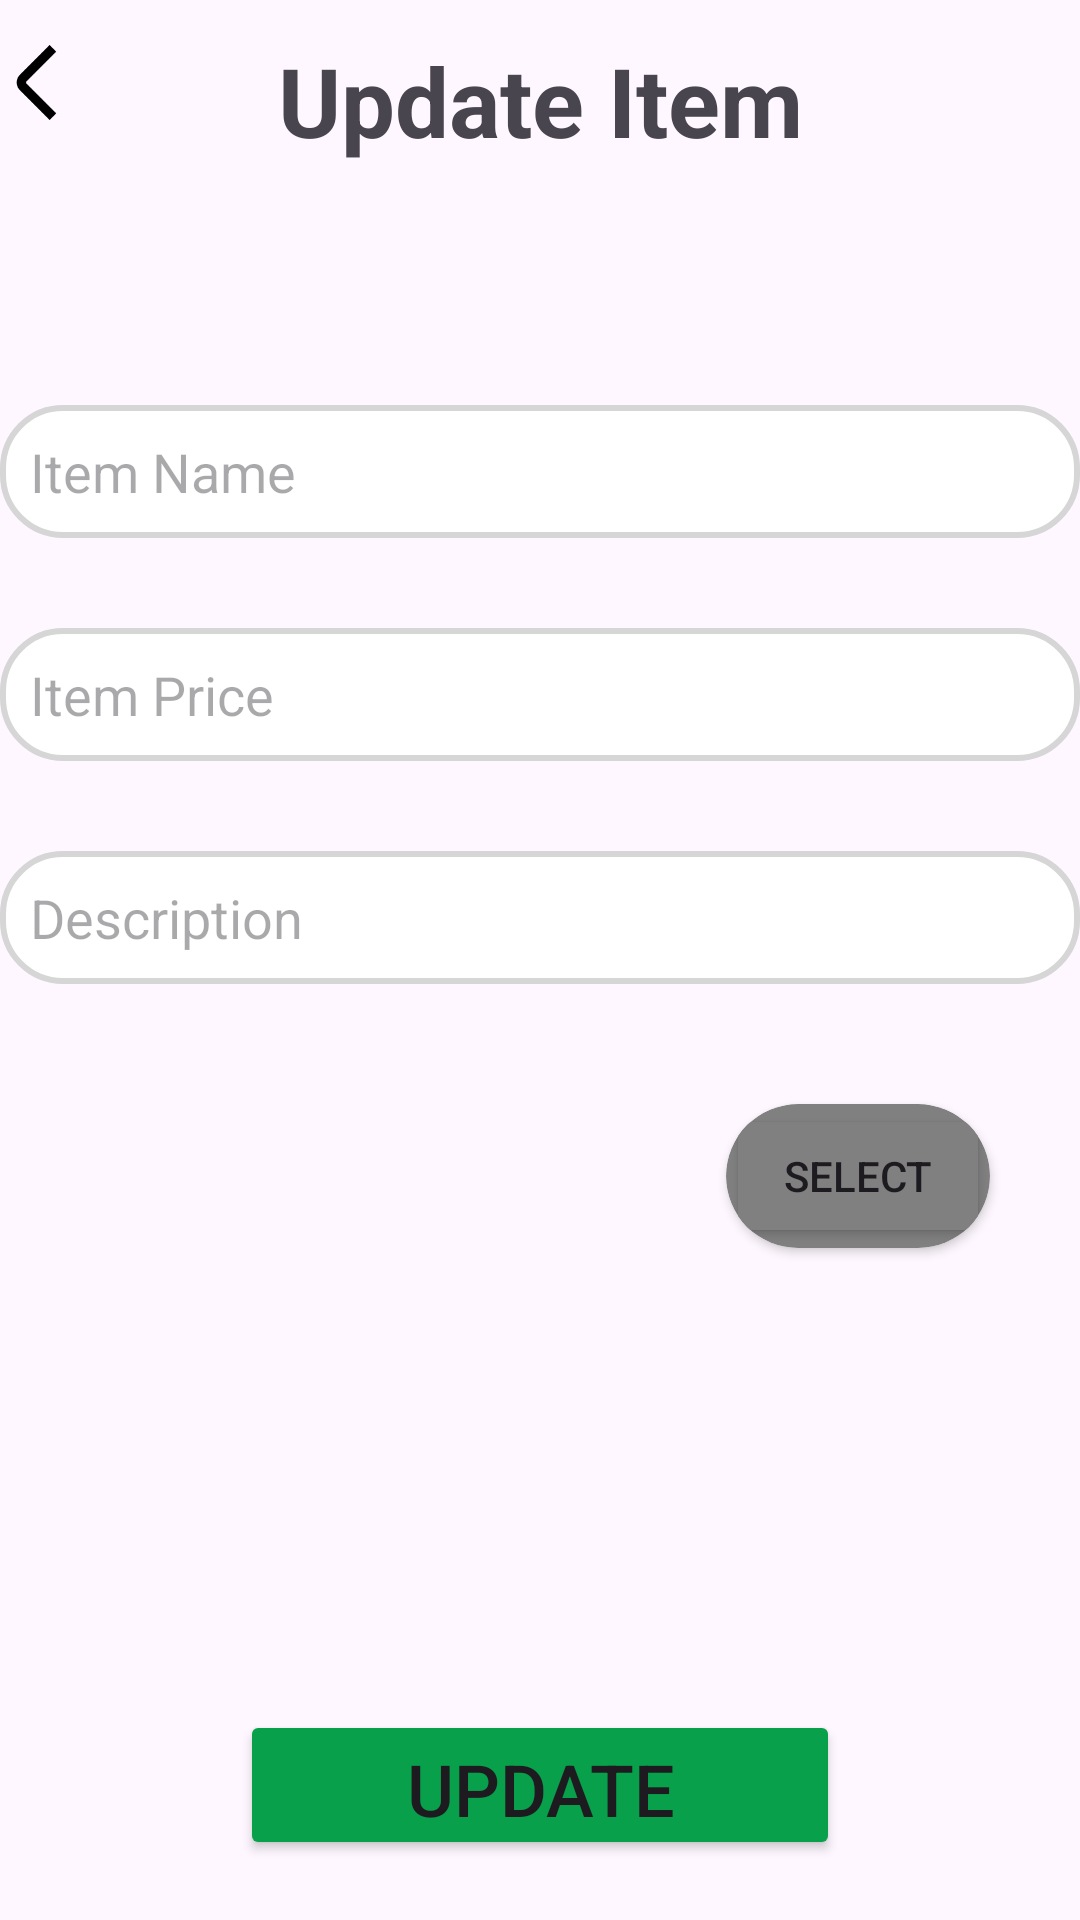

Screen size 1080w x 1920h. Icon name, then its center in pixels as (x=x, y=y):
back: (x=36, y=82)
